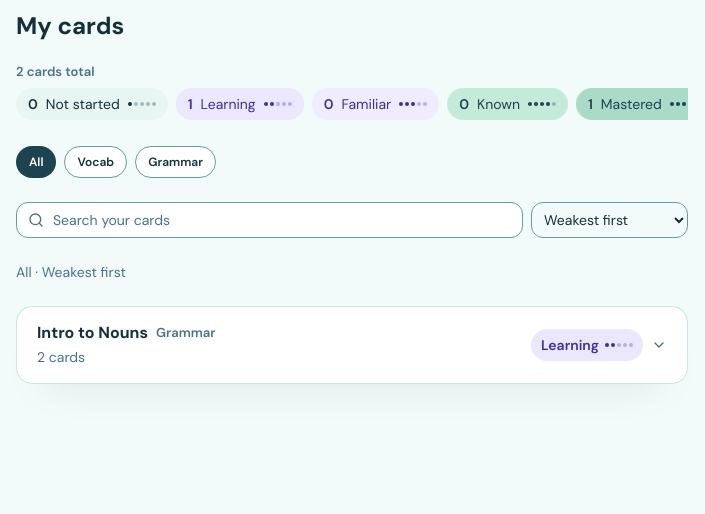
Test: WordsPage (My Cards gallery) › groups grammar cards by lesson into a collapsible row
The image size is (705, 514).
Expected: the heading "Intro to Nouns" is shown, [37,323,148,343]
Expected: the text "2 cards" is shown, [37,348,85,366]
// Expand the group.
Click the button "Intro to Nouns Grammar 2 cards Learning": (92, 332) [17,307,687,383]
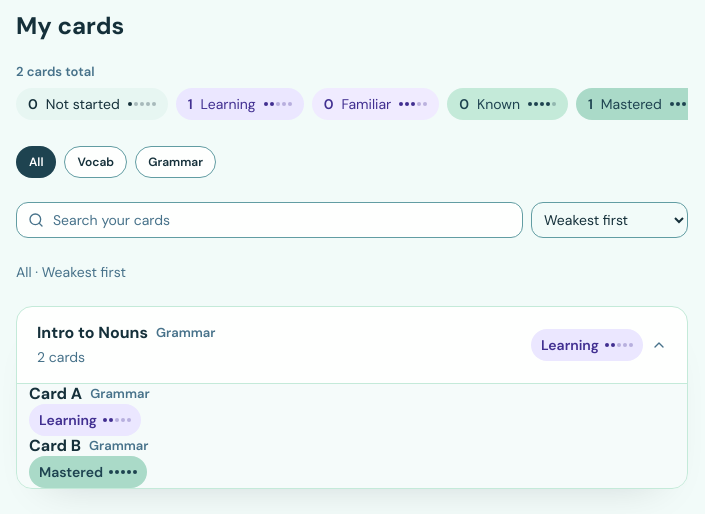
Now the heading "Card A" is shown, box [29,384,82,404]
Now the heading "Card B" is shown, box [29,436,81,456]
